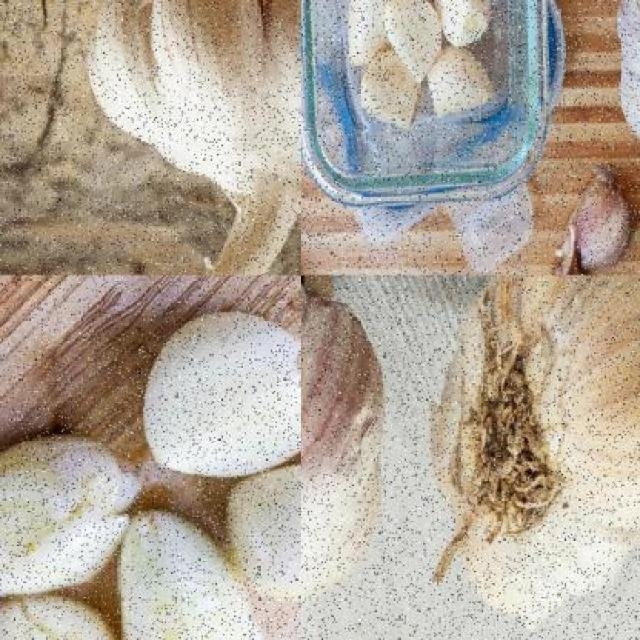garlic: (426, 276, 640, 636), (84, 0, 298, 274), (300, 274, 391, 640), (136, 306, 298, 482), (0, 430, 125, 602), (341, 0, 497, 128), (118, 506, 258, 640), (220, 446, 300, 606), (532, 170, 634, 275), (0, 584, 123, 640), (381, 0, 448, 82)
